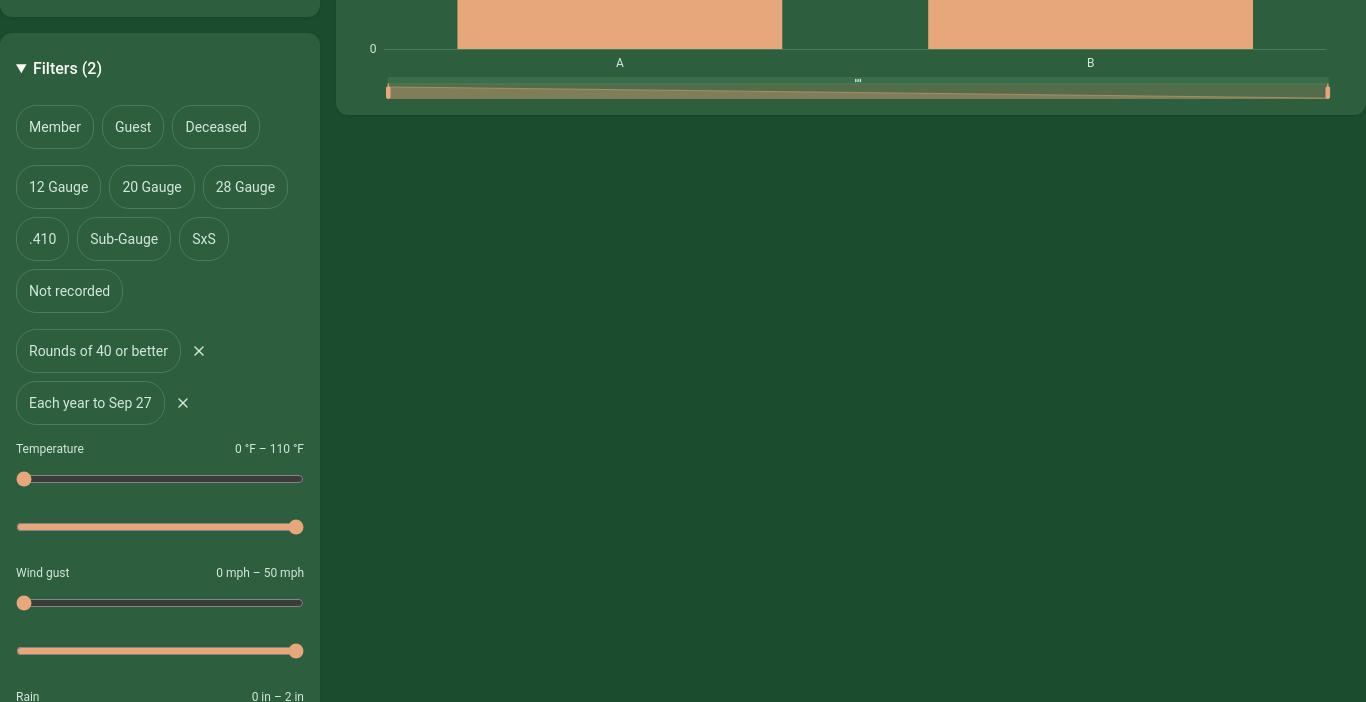
it: ExplorerPage › insight links (Plan 12) › sends the minimum score and year-to-date cut, shown as removable filters
(page scrolled)
Click the button named "Clear minimum score" at (199, 351), box [177,329,221,373]
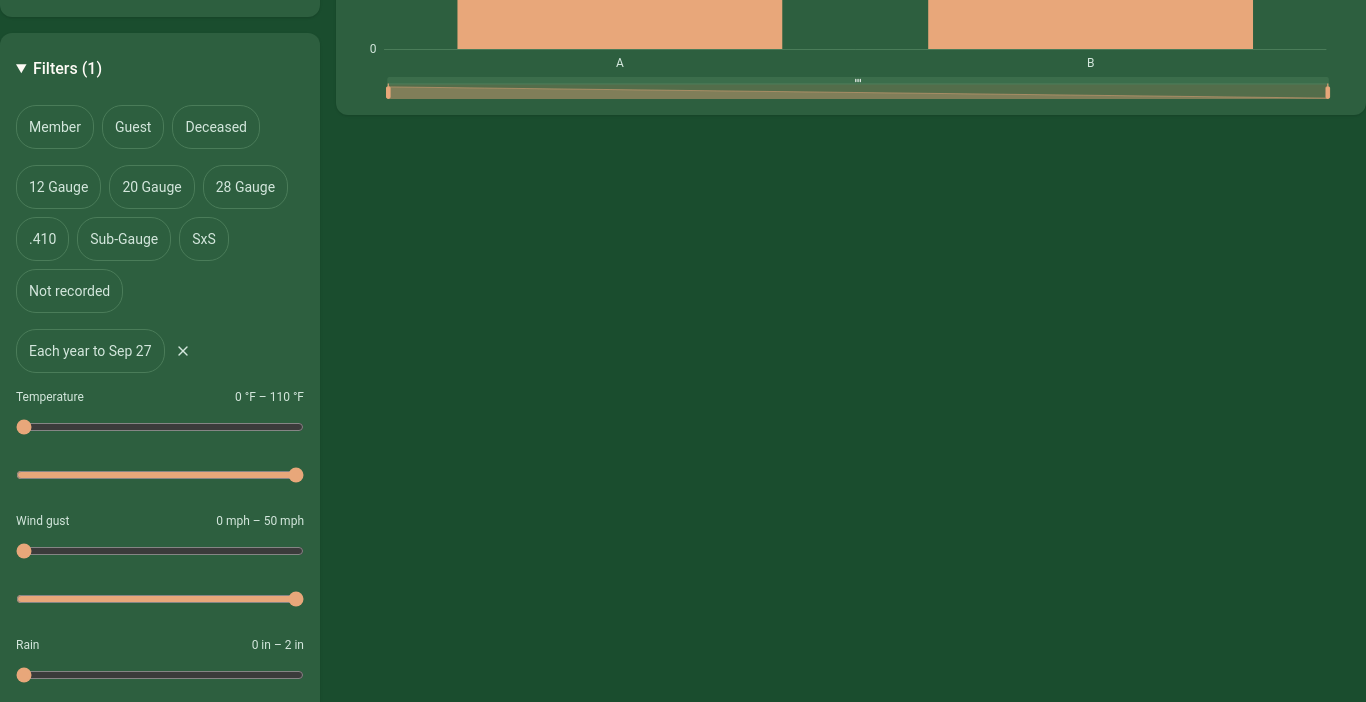
expect the button "Each year to Sep 27" is shown: met, box [16,329,165,373]
Click the button named "Clear year to date" at (183, 351), box [161,329,205,373]
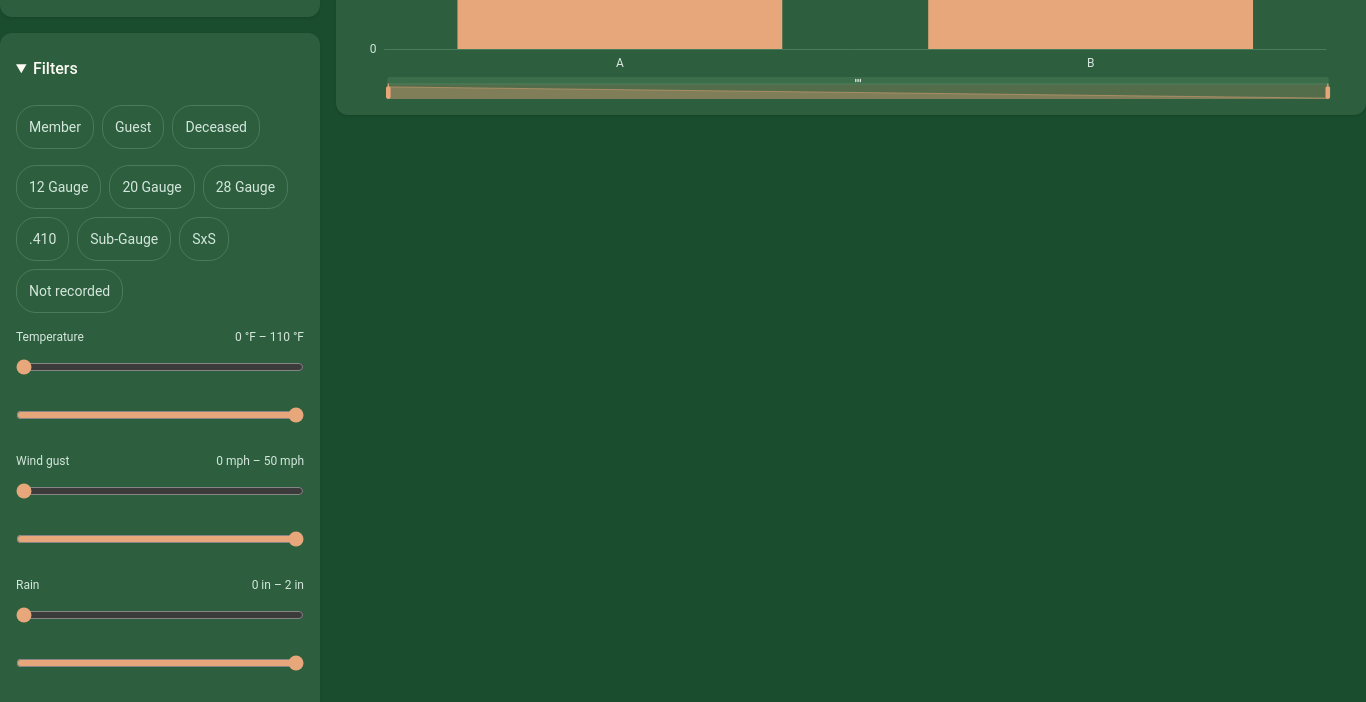
expect the button "Each year to Sep 27" is gone: met
